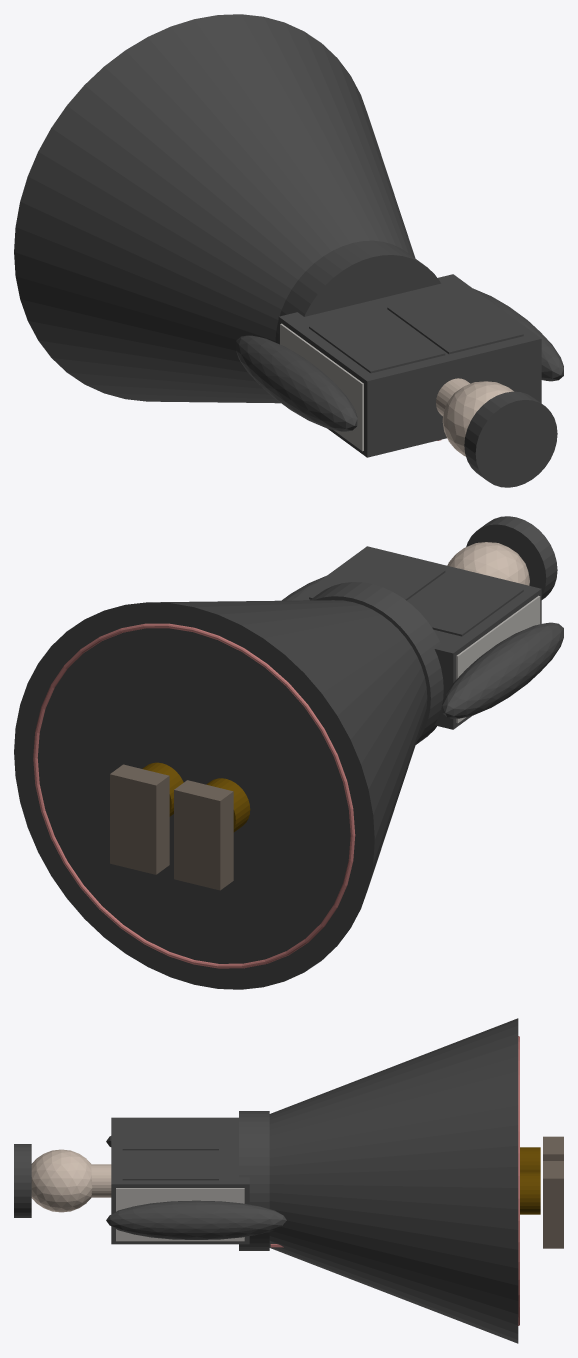
The model's file is MASTER_148_STAGE3_DETAIL.glb.
3 views of the same model, one above another, from view 1: azimuth 30°, elevation 25°; view 2: azimuth 150°, elevation 25°; view 3: azimuth 270°, elevation 25° (orthographic). The views are drawn at different scales.
Visible parts, largest first — view 1: slot_lower_main__fund_i_gjatë, slot_upper_inner__këmishë, slot_waist__brez, slot_headwear__mbulesë_koke, slot_upper_inner_sleeve_L, slot_upper_outer__jelek/xhamadan_L, slot_upper_outer__jelek/xhamadan_R, mannequin_torso, mannequin_head, slot_upper_inner_sleeve_R; view 2: slot_lower_main__fund_i_gjatë, slot_footwear__opinga_L, slot_footwear__opinga_R, slot_upper_inner_sleeve_L, detail_skirt_hem, slot_waist__brez, slot_upper_inner__këmishë, slot_upper_outer__jelek/xhamadan_L, slot_headwear__mbulesë_koke, slot_upper_outer__jelek/xhamadan_R, mannequin_head, mannequin_torso (+2 smaller); view 3: slot_lower_main__fund_i_gjatë, slot_upper_inner_sleeve_R, slot_upper_inner__këmishë, mannequin_head, slot_waist__brez, slot_upper_outer__jelek/xhamadan_R, slot_upper_outer__jelek/xhamadan_L, mannequin_torso, slot_footwear__opinga_R, slot_headwear__mbulesë_koke, slot_legwear__çorape_R, mannequin_neck (+3 smaller).
Part boxes in pixels (bbox=[...]): slot_lower_main__fund_i_gjatë: bbox=[14, 14, 415, 403]; slot_upper_inner__këmishë: bbox=[278, 274, 541, 457]; slot_waist__brez: bbox=[275, 240, 440, 343]; slot_headwear__mbulesë_koke: bbox=[464, 391, 557, 487]; slot_upper_inner_sleeve_L: bbox=[236, 335, 357, 431]; slot_upper_outer__jelek/xhamadan_L: bbox=[309, 308, 445, 373]; slot_upper_outer__jelek/xhamadan_R: bbox=[387, 289, 523, 354]; mannequin_torso: bbox=[280, 323, 363, 451]; mannequin_head: bbox=[442, 381, 513, 456]; slot_upper_inner_sleeve_R: bbox=[473, 288, 563, 381]; slot_lower_main__fund_i_gjatë: bbox=[14, 600, 427, 989]; slot_footwear__opinga_L: bbox=[174, 780, 233, 890]; slot_footwear__opinga_R: bbox=[110, 764, 169, 874]; slot_upper_inner_sleeve_L: bbox=[442, 622, 563, 718]; detail_skirt_hem: bbox=[33, 623, 355, 968]; slot_waist__brez: bbox=[310, 582, 443, 744]; slot_upper_inner__këmishë: bbox=[293, 546, 541, 729]; slot_upper_outer__jelek/xhamadan_L: bbox=[408, 571, 523, 636]; slot_headwear__mbulesë_koke: bbox=[466, 516, 557, 599]; slot_upper_outer__jelek/xhamadan_R: bbox=[309, 552, 445, 600]; mannequin_head: bbox=[447, 542, 529, 585]; mannequin_torso: bbox=[456, 595, 540, 723]; slot_lower_main__fund_i_gjatë: bbox=[269, 1018, 518, 1343]; slot_upper_inner_sleeve_R: bbox=[106, 1200, 286, 1239]; slot_upper_inner__këmishë: bbox=[111, 1117, 249, 1244]; mannequin_head: bbox=[31, 1149, 92, 1212]; slot_waist__brez: bbox=[239, 1111, 269, 1250]; slot_upper_outer__jelek/xhamadan_R: bbox=[122, 1150, 218, 1180]; slot_upper_outer__jelek/xhamadan_L: bbox=[122, 1120, 218, 1150]; mannequin_torso: bbox=[116, 1188, 244, 1241]; slot_footwear__opinga_R: bbox=[543, 1161, 563, 1248]; slot_headwear__mbulesë_koke: bbox=[14, 1144, 31, 1217]; slot_legwear__çorape_R: bbox=[520, 1171, 540, 1214]; mannequin_neck: bbox=[91, 1164, 111, 1197].
Bounding box in the file's own units: 1.01 × 1.01 × 1.71.
